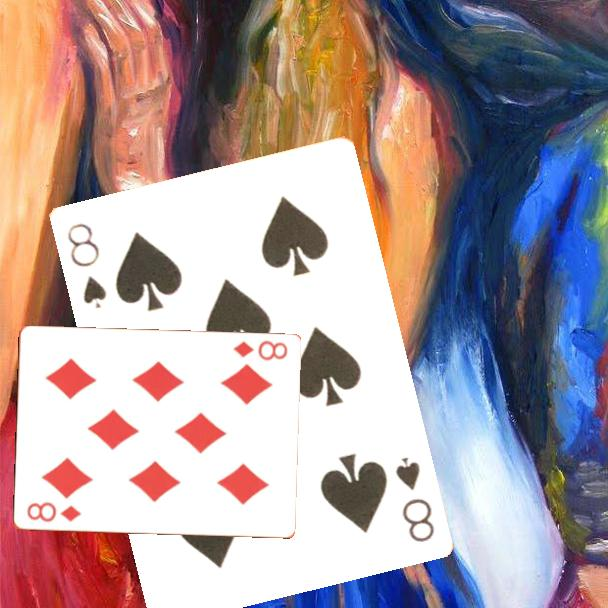d08: (23, 499, 84, 525), (229, 337, 290, 363)
s08: (63, 219, 109, 311), (391, 453, 437, 545)
